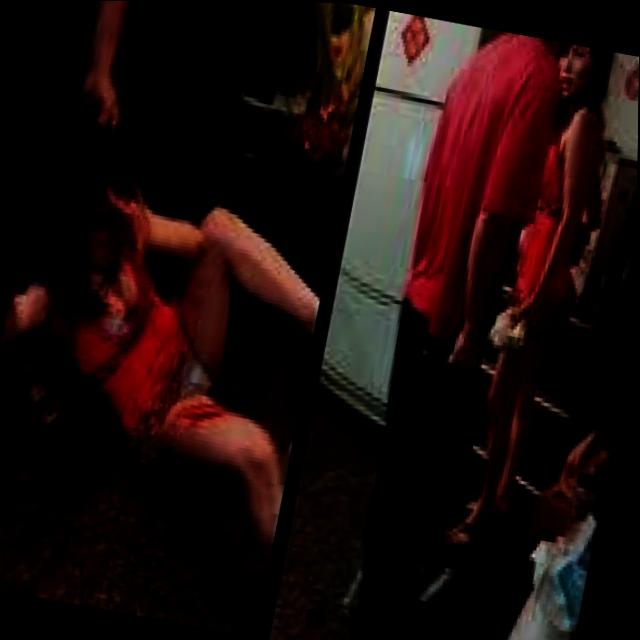Fall-Detected: (0, 124, 344, 583)
